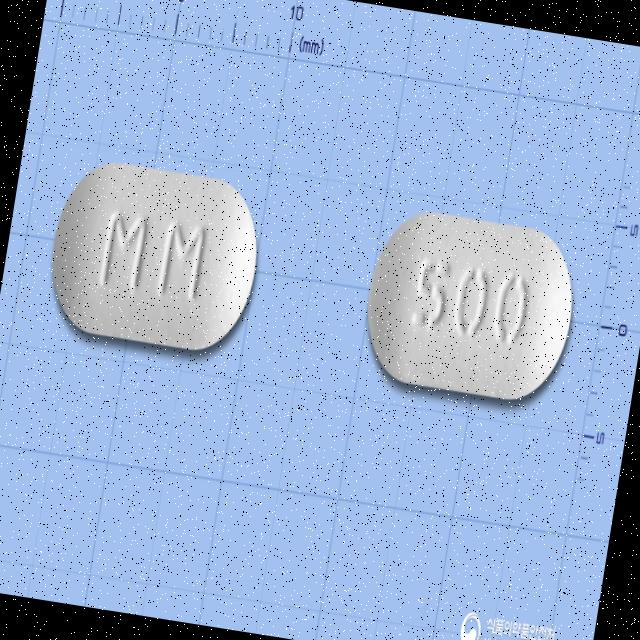Amoclan Duo: (38, 150, 272, 362), (354, 204, 586, 412)
